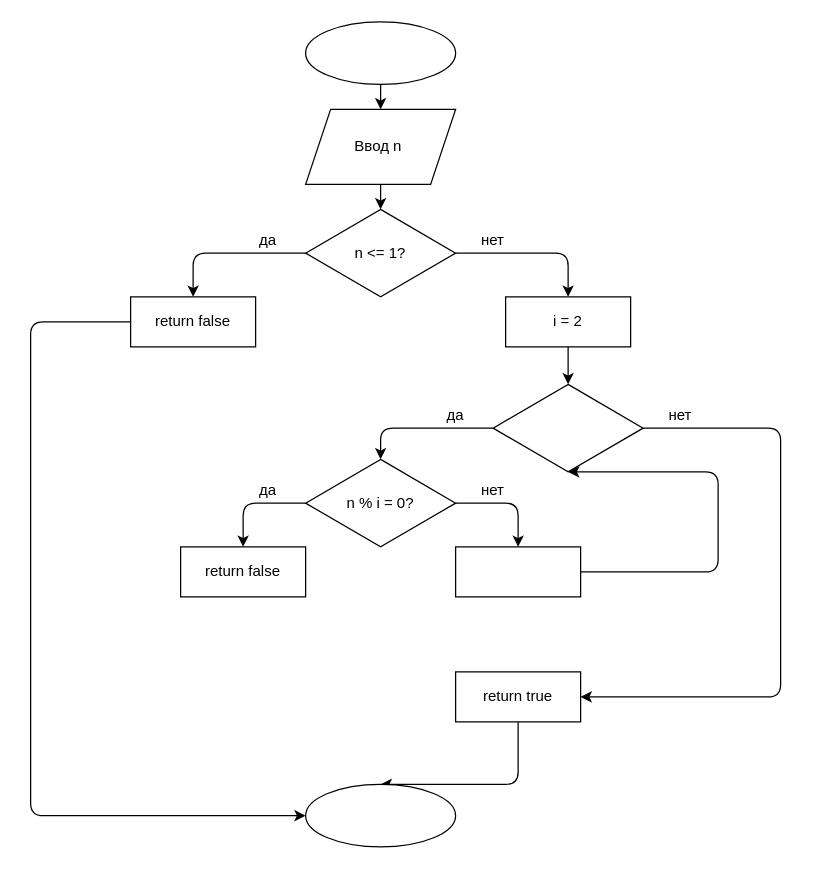
Image size: 813x869. Some labels were removed from this diagram. Here are the shapes that lost their labels. From the top down, the box of each, then its label:
(304, 21, 456, 84): Начало
(492, 383, 643, 472): i * i <= n?
(454, 546, 581, 597): i++
(304, 783, 456, 847): Конец
